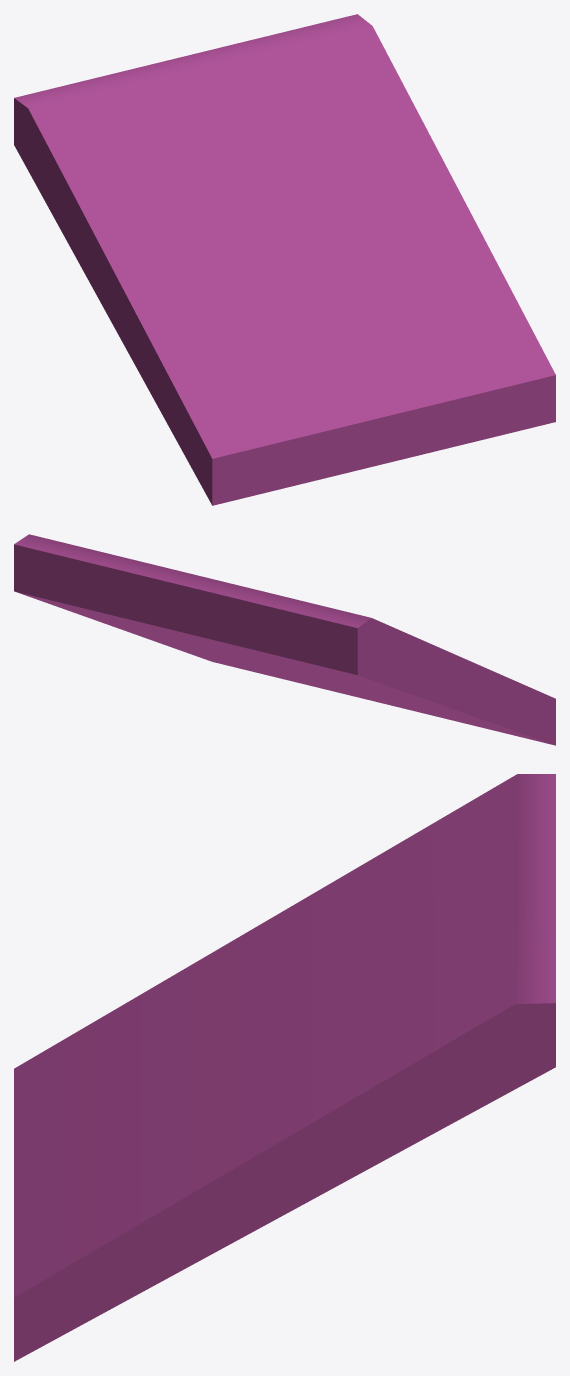
Rendered from SM_Bld_Base_Stairs_01_Collision.glb.
3 renders of one model, top to bottom at view 1: azimuth 30°, elevation 25°; view 2: azimuth 150°, elevation 25°; view 3: azimuth 270°, elevation 25°, orthographic. The views are drawn at different scales.
Parts seen in each view (by area): view 1: SM_Bld_Base_Stairs_01_Collision2; view 2: SM_Bld_Base_Stairs_01_Collision2; view 3: SM_Bld_Base_Stairs_01_Collision2.
Boxes of the visible parts, left/top/right/bottom form: SM_Bld_Base_Stairs_01_Collision2: left=14, top=14, right=555, bottom=505; SM_Bld_Base_Stairs_01_Collision2: left=14, top=534, right=555, bottom=745; SM_Bld_Base_Stairs_01_Collision2: left=14, top=774, right=555, bottom=1361.
Bounding box in the file's own units: 2.5 × 1.83 × 2.5.
